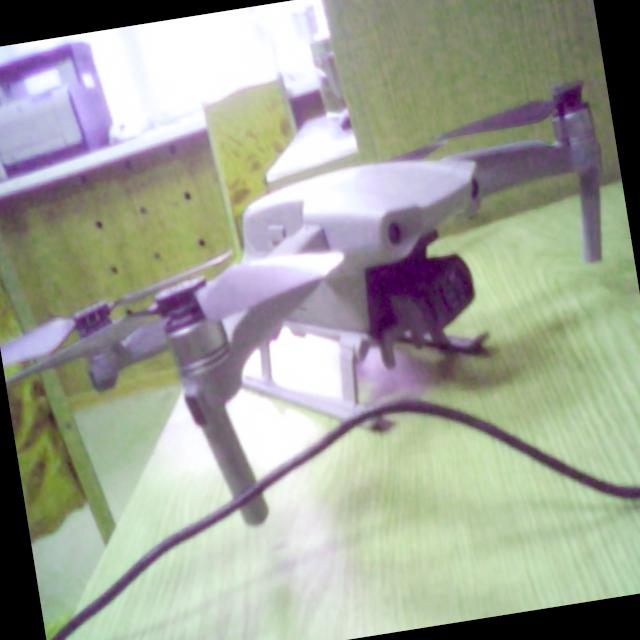drone: (0, 62, 640, 556)
